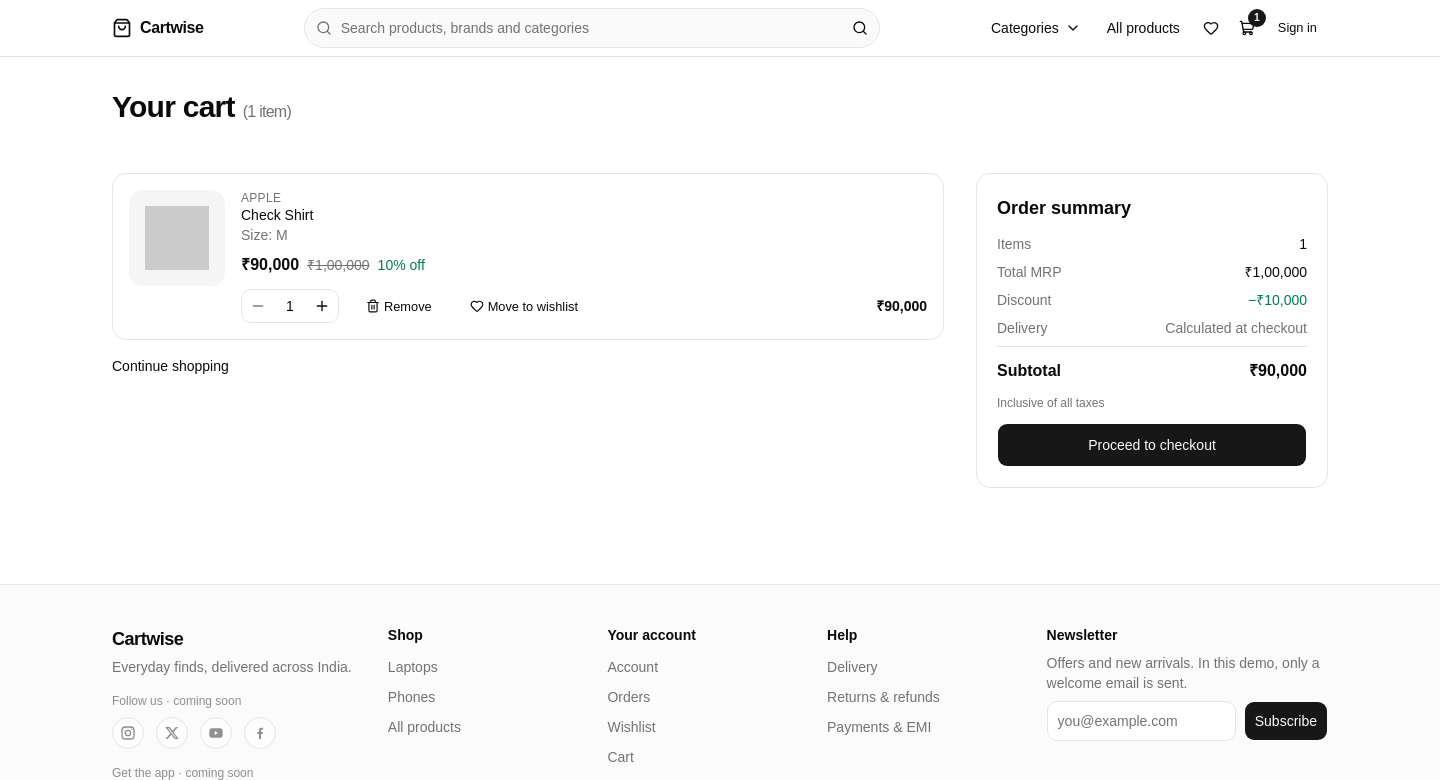
Scenario: CartPage › changes quantity and stops at the stock limit with a reason
The image size is (1440, 780).
Step 1. Click the button named "Increase quantity" → (322, 306), box left=306, top=290, right=338, bottom=322
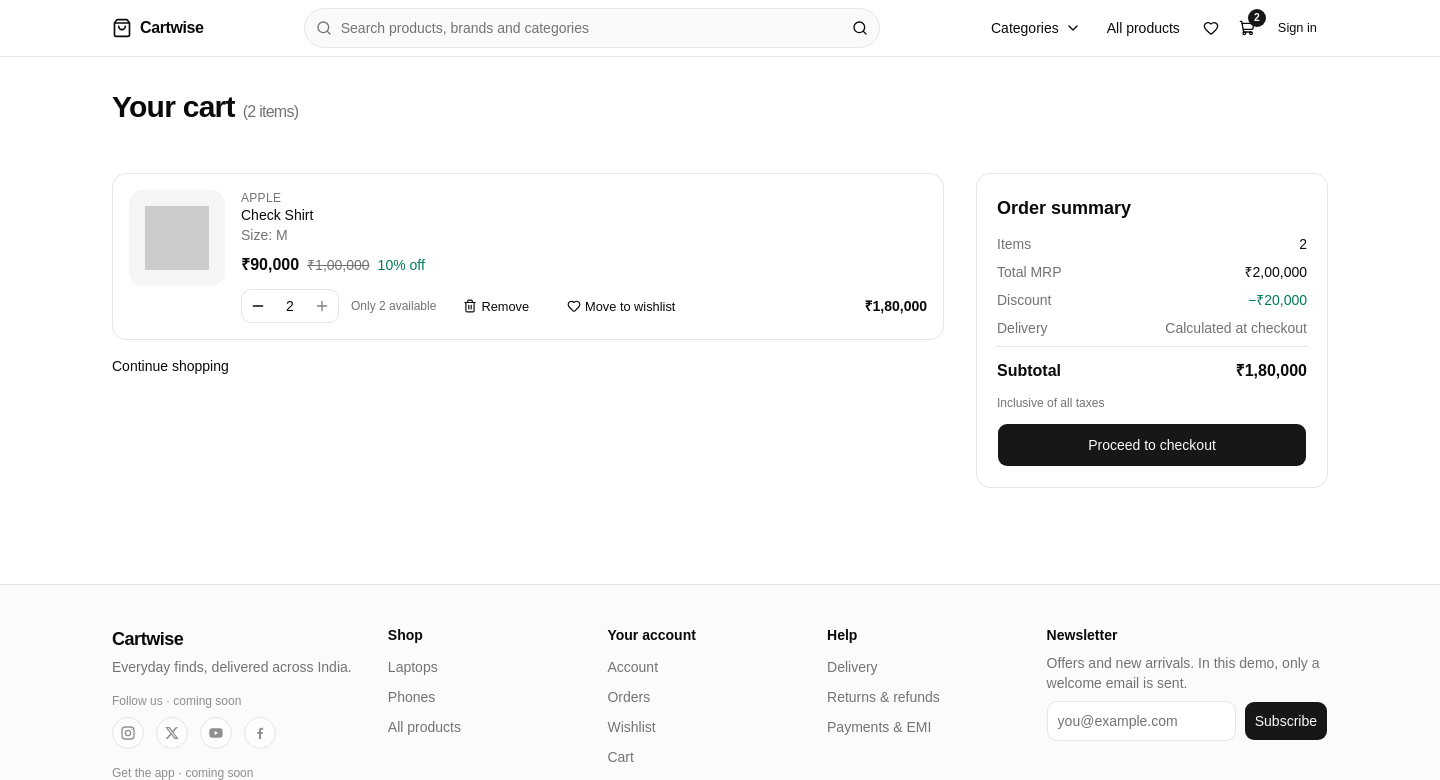
Now the text "2" next to "Only 2 available" is shown, box left=286, top=298, right=294, bottom=314
Now the button named "Increase quantity" is disabled, box left=306, top=290, right=338, bottom=322
Now the text "Only 2 available" is shown, box left=351, top=298, right=436, bottom=314
Step 2. Click the button named "Decrease quantity" → (258, 306), box left=242, top=290, right=274, bottom=322
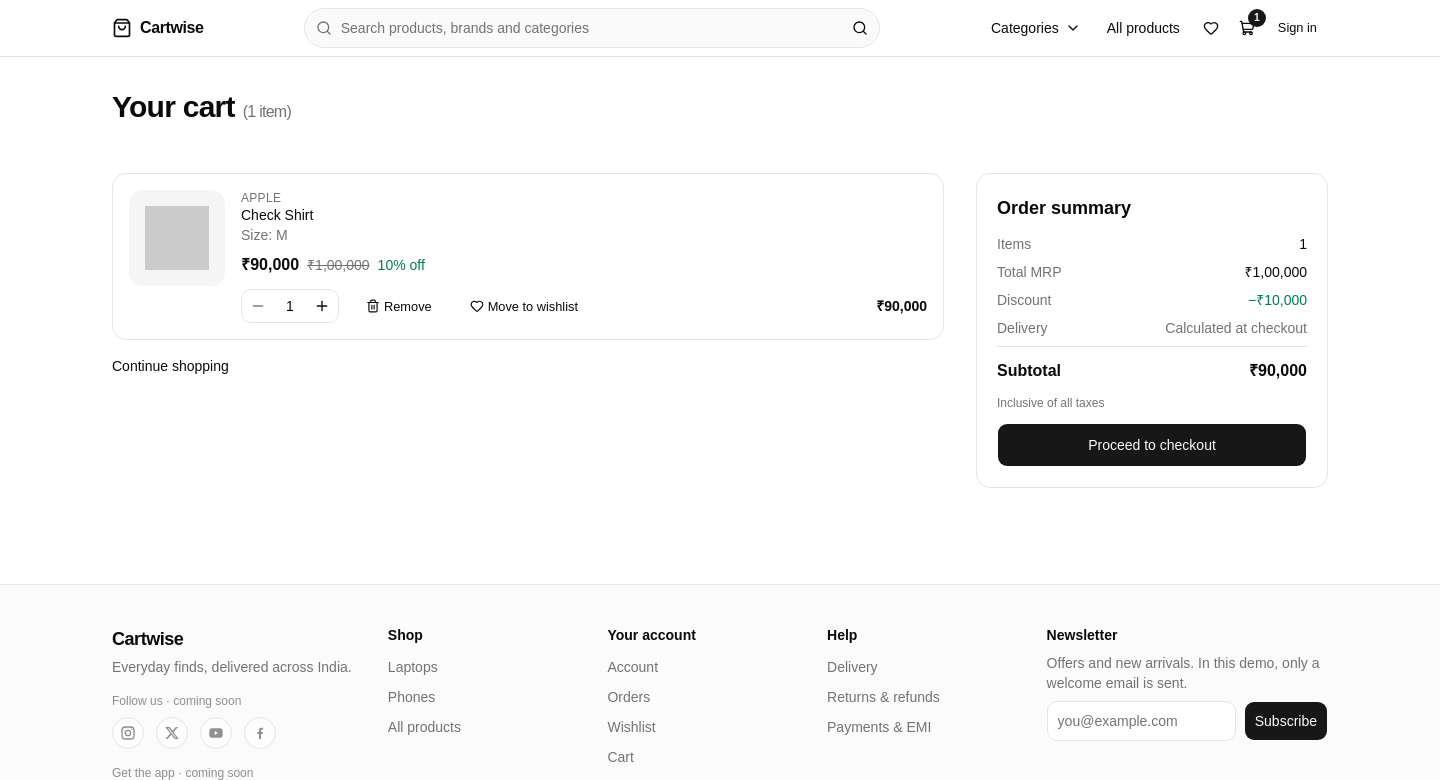
Now the text "1" below "% off" is shown, box left=286, top=298, right=294, bottom=314
